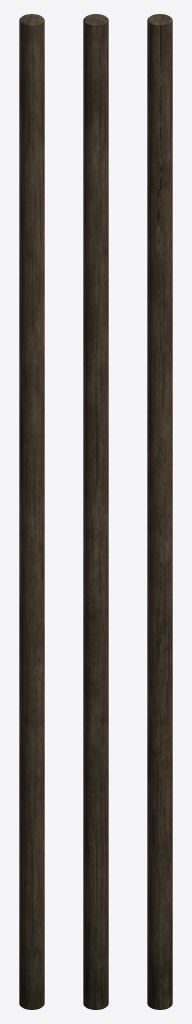
The model's file is ph_power_pole_08.fbx.
The picture shows the model from 3 angles, left to right: view 1: azimuth 90°, elevation 25°; view 2: azimuth 150°, elevation 25°; view 3: azimuth 270°, elevation 25°; orthographic projection.
Parts seen in each view (by area): view 1: ph_power_pole_08_LOD0; view 2: ph_power_pole_08_LOD0; view 3: ph_power_pole_08_LOD0.
Part boxes in pixels (x1,y1,x2,y2): ph_power_pole_08_LOD0: (19, 14, 44, 1009); ph_power_pole_08_LOD0: (83, 14, 108, 1009); ph_power_pole_08_LOD0: (147, 14, 172, 1009).
Size of what is drawn, in the model's own units: 0.14 by 6 by 0.14.
